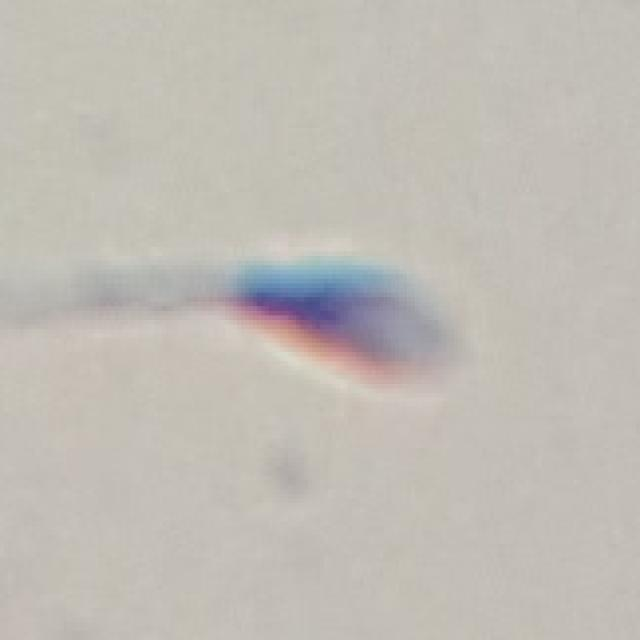abnormal sperm: (114, 248, 460, 386)
